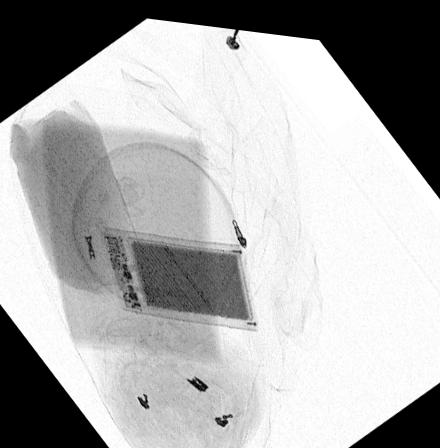Powerbank: (98, 221, 259, 324)
